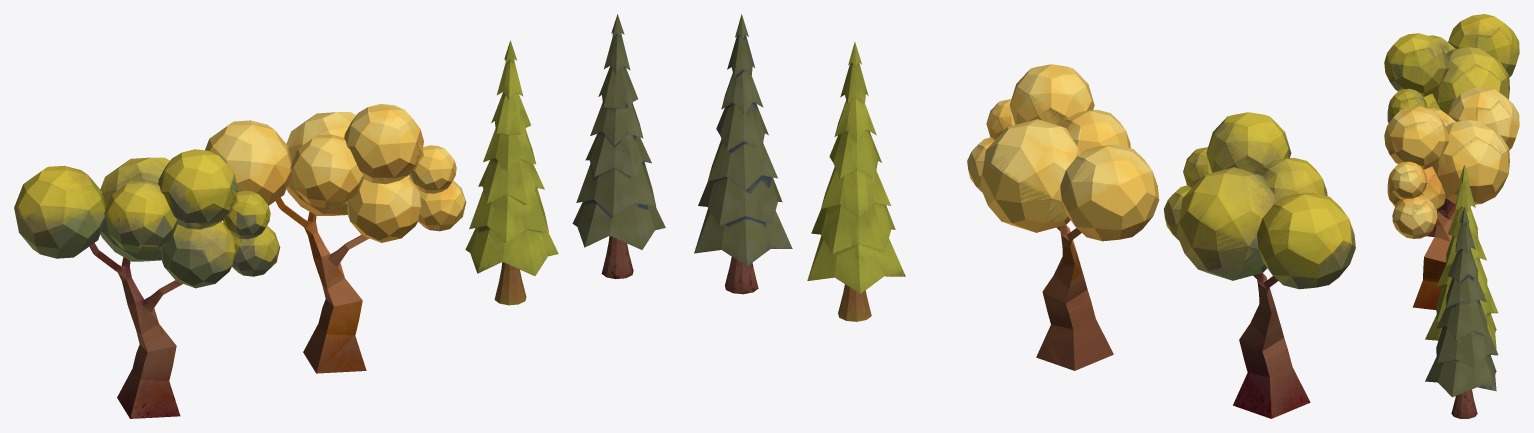
Rendered from TreesTextureExport.gltf.
The picture shows the model from 3 angles, left to right: view 1: azimuth 30°, elevation 25°; view 2: azimuth 150°, elevation 25°; view 3: azimuth 270°, elevation 25°; orthographic projection. The views are drawn at different scales.
Parts seen in each view (by area): view 1: Normal_Blaetter.001, Normal_Blaetter, Tannen_Blaetter.001, Tannen_Blaetter, Normal_Stamp, Normal_Stamp.001, Tannen_Stamp, Tannen_Stamp.002; view 2: Normal_Blaetter, Normal_Blaetter.001, Tannen_Blaetter, Tannen_Blaetter.001, Normal_Stamp, Normal_Stamp.001, Tannen_Stamp, Tannen_Stamp.002; view 3: Normal_Blaetter, Normal_Blaetter.001, Tannen_Blaetter.001, Tannen_Blaetter, Normal_Stamp, Tannen_Stamp.002, Normal_Stamp.001.
Boxes of the visible parts, x1,y1,x2,y2 form: Normal_Blaetter.001: (14, 149, 280, 288); Normal_Blaetter: (205, 104, 466, 242); Tannen_Blaetter.001: (572, 14, 665, 249); Tannen_Blaetter: (465, 40, 558, 275); Normal_Stamp: (275, 197, 369, 373); Normal_Stamp.001: (89, 243, 182, 418); Tannen_Stamp: (494, 262, 526, 305); Tannen_Stamp.002: (601, 235, 633, 278); Normal_Blaetter: (967, 64, 1159, 241); Normal_Blaetter.001: (1164, 112, 1355, 289); Tannen_Blaetter: (807, 42, 905, 293); Tannen_Blaetter.001: (694, 14, 792, 266); Normal_Stamp: (1036, 225, 1113, 370); Normal_Stamp.001: (1233, 273, 1310, 418); Tannen_Stamp: (838, 284, 871, 321); Tannen_Stamp.002: (725, 257, 758, 294); Normal_Blaetter: (1384, 87, 1519, 238); Normal_Blaetter.001: (1384, 14, 1519, 123); Tannen_Blaetter.001: (1425, 206, 1498, 397); Tannen_Blaetter: (1425, 165, 1498, 349); Normal_Stamp: (1413, 204, 1456, 309); Tannen_Stamp.002: (1451, 389, 1477, 418); Normal_Stamp.001: (1426, 198, 1455, 236).
Bounding box in the file's own units: 44.24 × 17.82 × 10.33.
8 materials, 8 textured.
